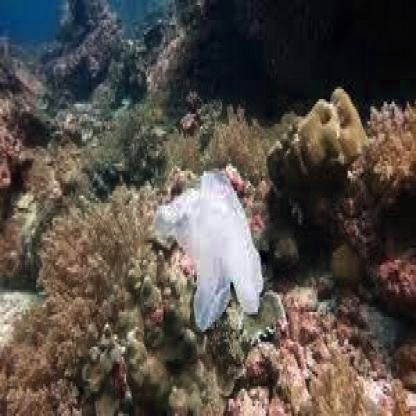pbag: (148, 166, 264, 332)
